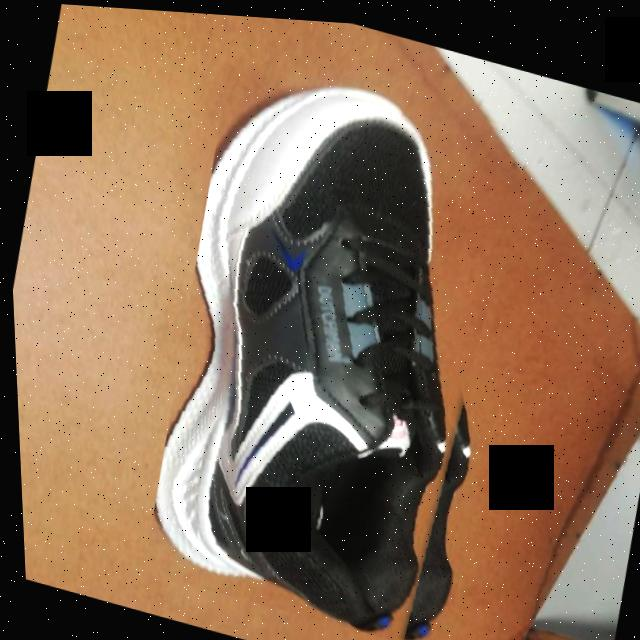shoe: (119, 39, 549, 640)
